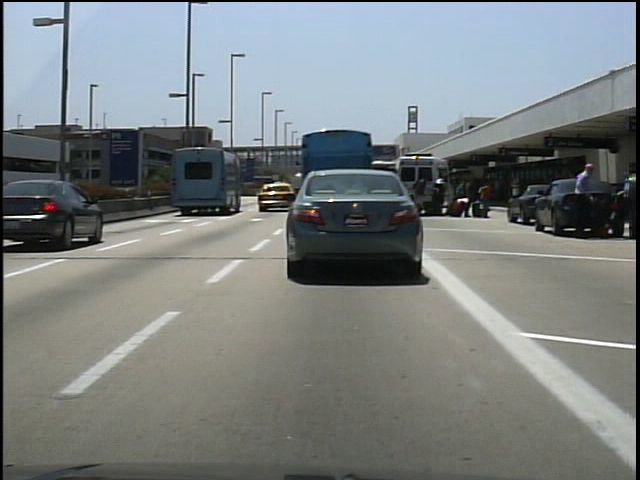person: (566, 158, 600, 241), (612, 162, 638, 240), (429, 173, 449, 219), (412, 172, 431, 220), (453, 175, 473, 219), (478, 179, 496, 221)
